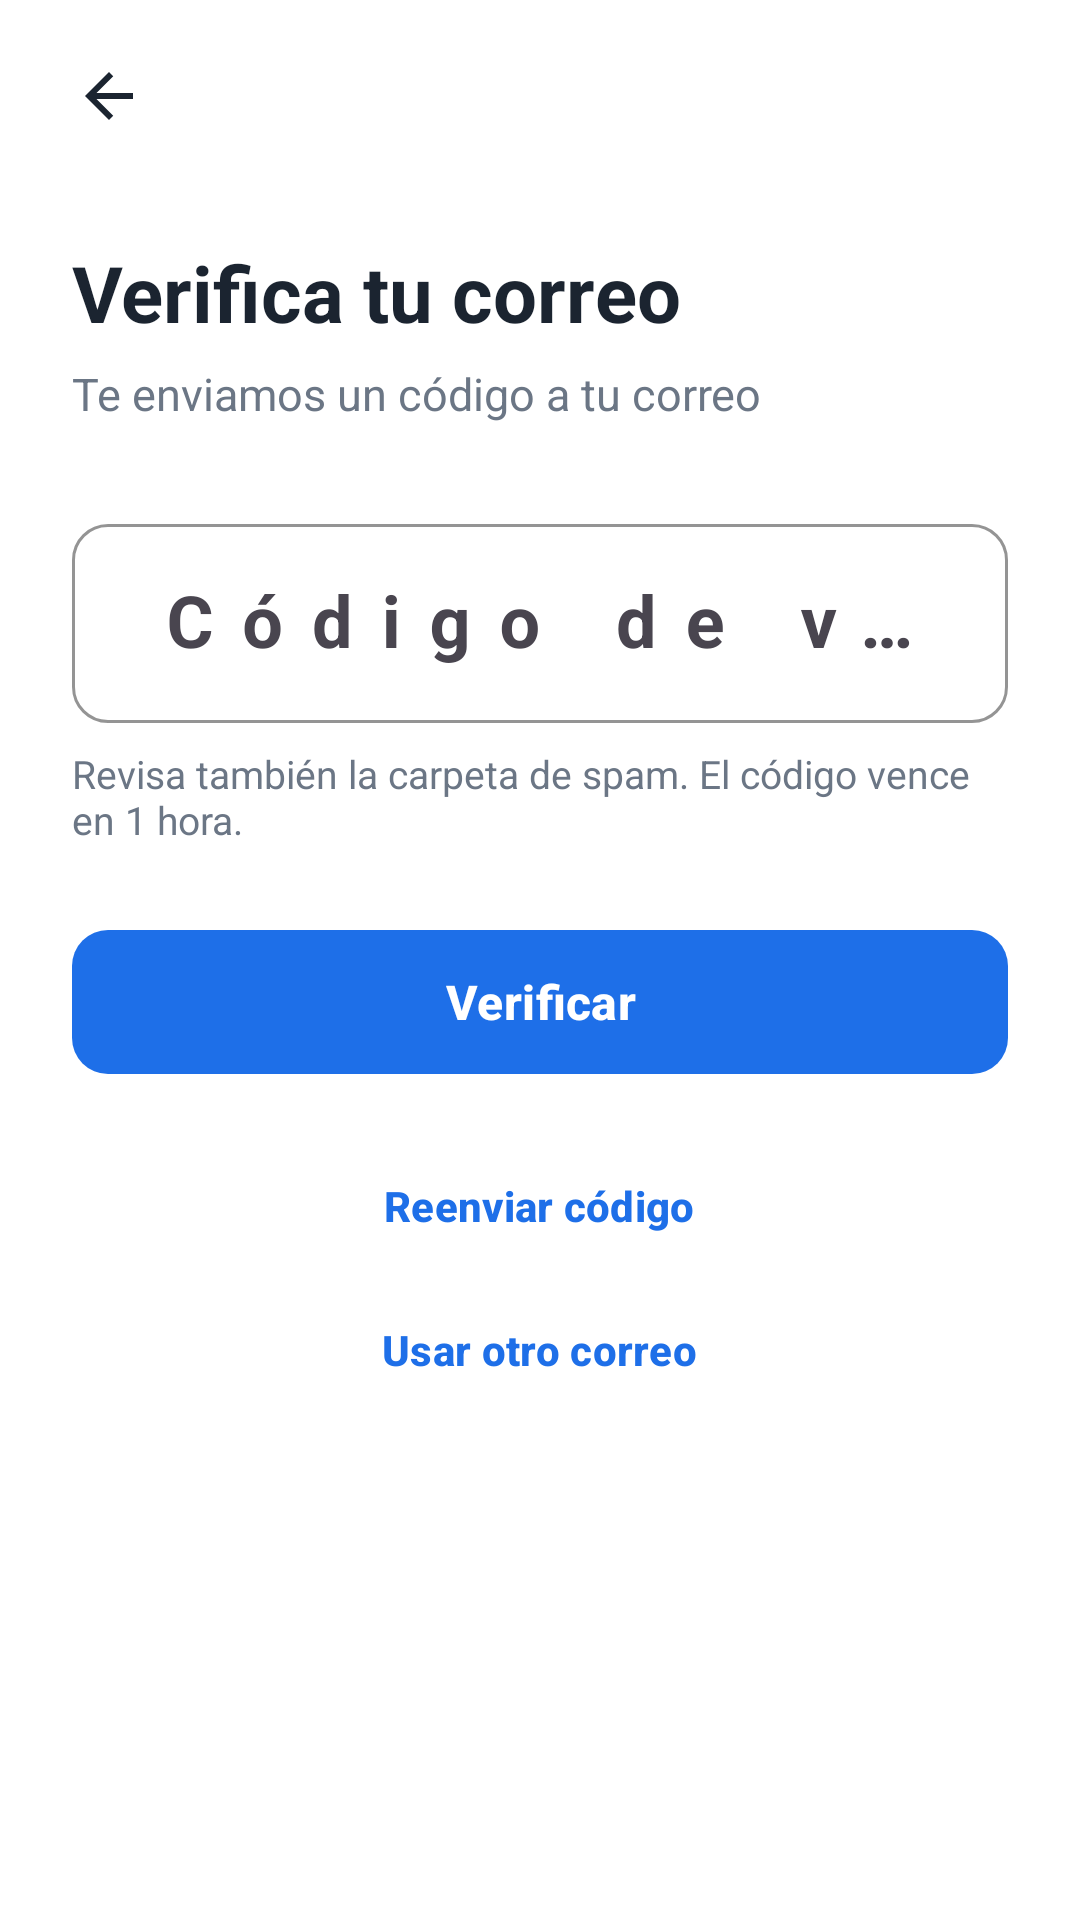

Icon bounding boxes for this 1080*1920 phone screenshot, format box(x1, y1, x2, y2):
Volver: box(85, 72, 133, 120)
